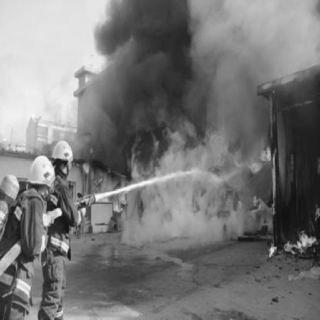Smoke: (78, 0, 194, 144)
